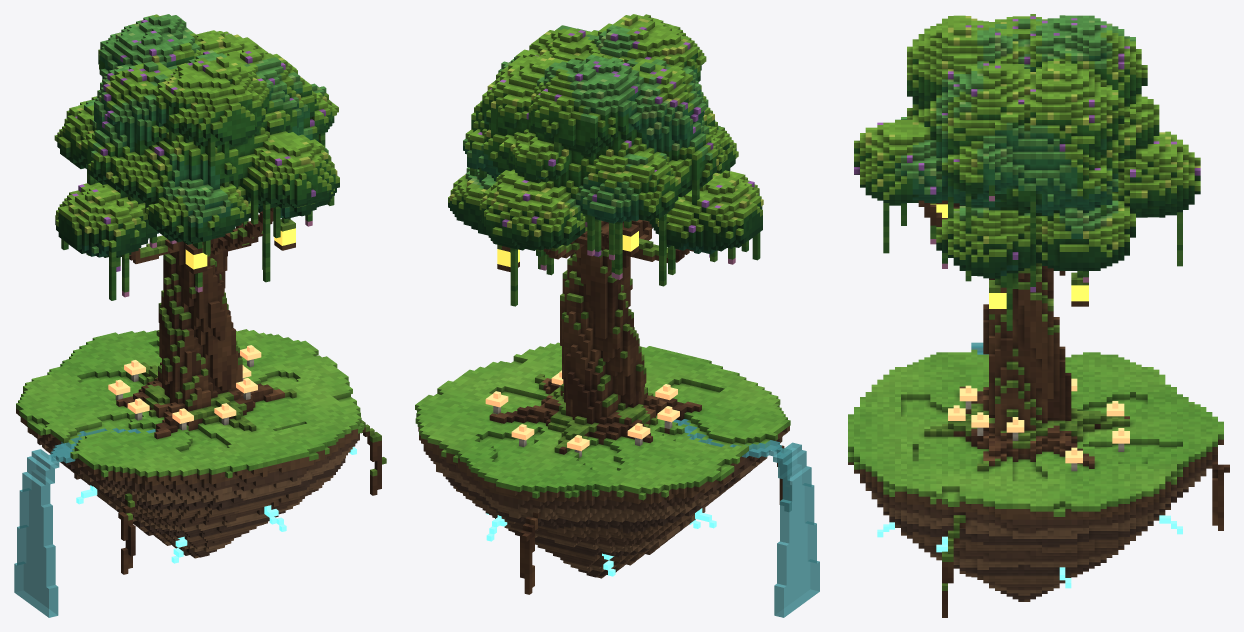
Rendered from tree-ancient-island.glb.
3 renders of one model, left to right at view 1: azimuth 30°, elevation 25°; view 2: azimuth 150°, elevation 25°; view 3: azimuth 270°, elevation 25°, orthographic. The views are drawn at different scales.
Visible parts, largest first — view 1: TREE_ANCIENT__glass_water; view 2: TREE_ANCIENT__glass_water; view 3: TREE_ANCIENT__glass_water.
Boxes of the visible parts, box(x1,y1,x2,y2) form: TREE_ANCIENT__glass_water: box(14, 14, 386, 617); TREE_ANCIENT__glass_water: box(415, 14, 819, 617); TREE_ANCIENT__glass_water: box(848, 14, 1229, 617).
Size of the model in its own units: 1.35 by 2 by 1.21.
